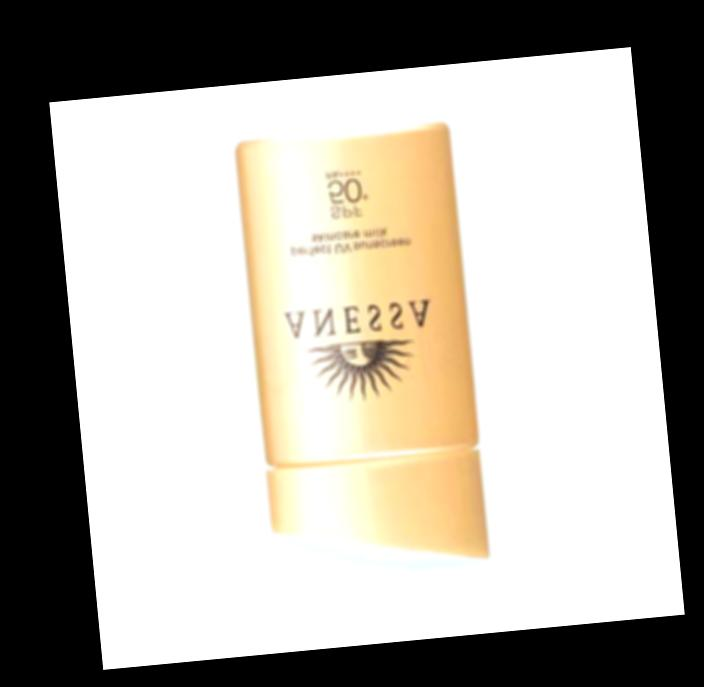cosmetic: (236, 126, 493, 583)
